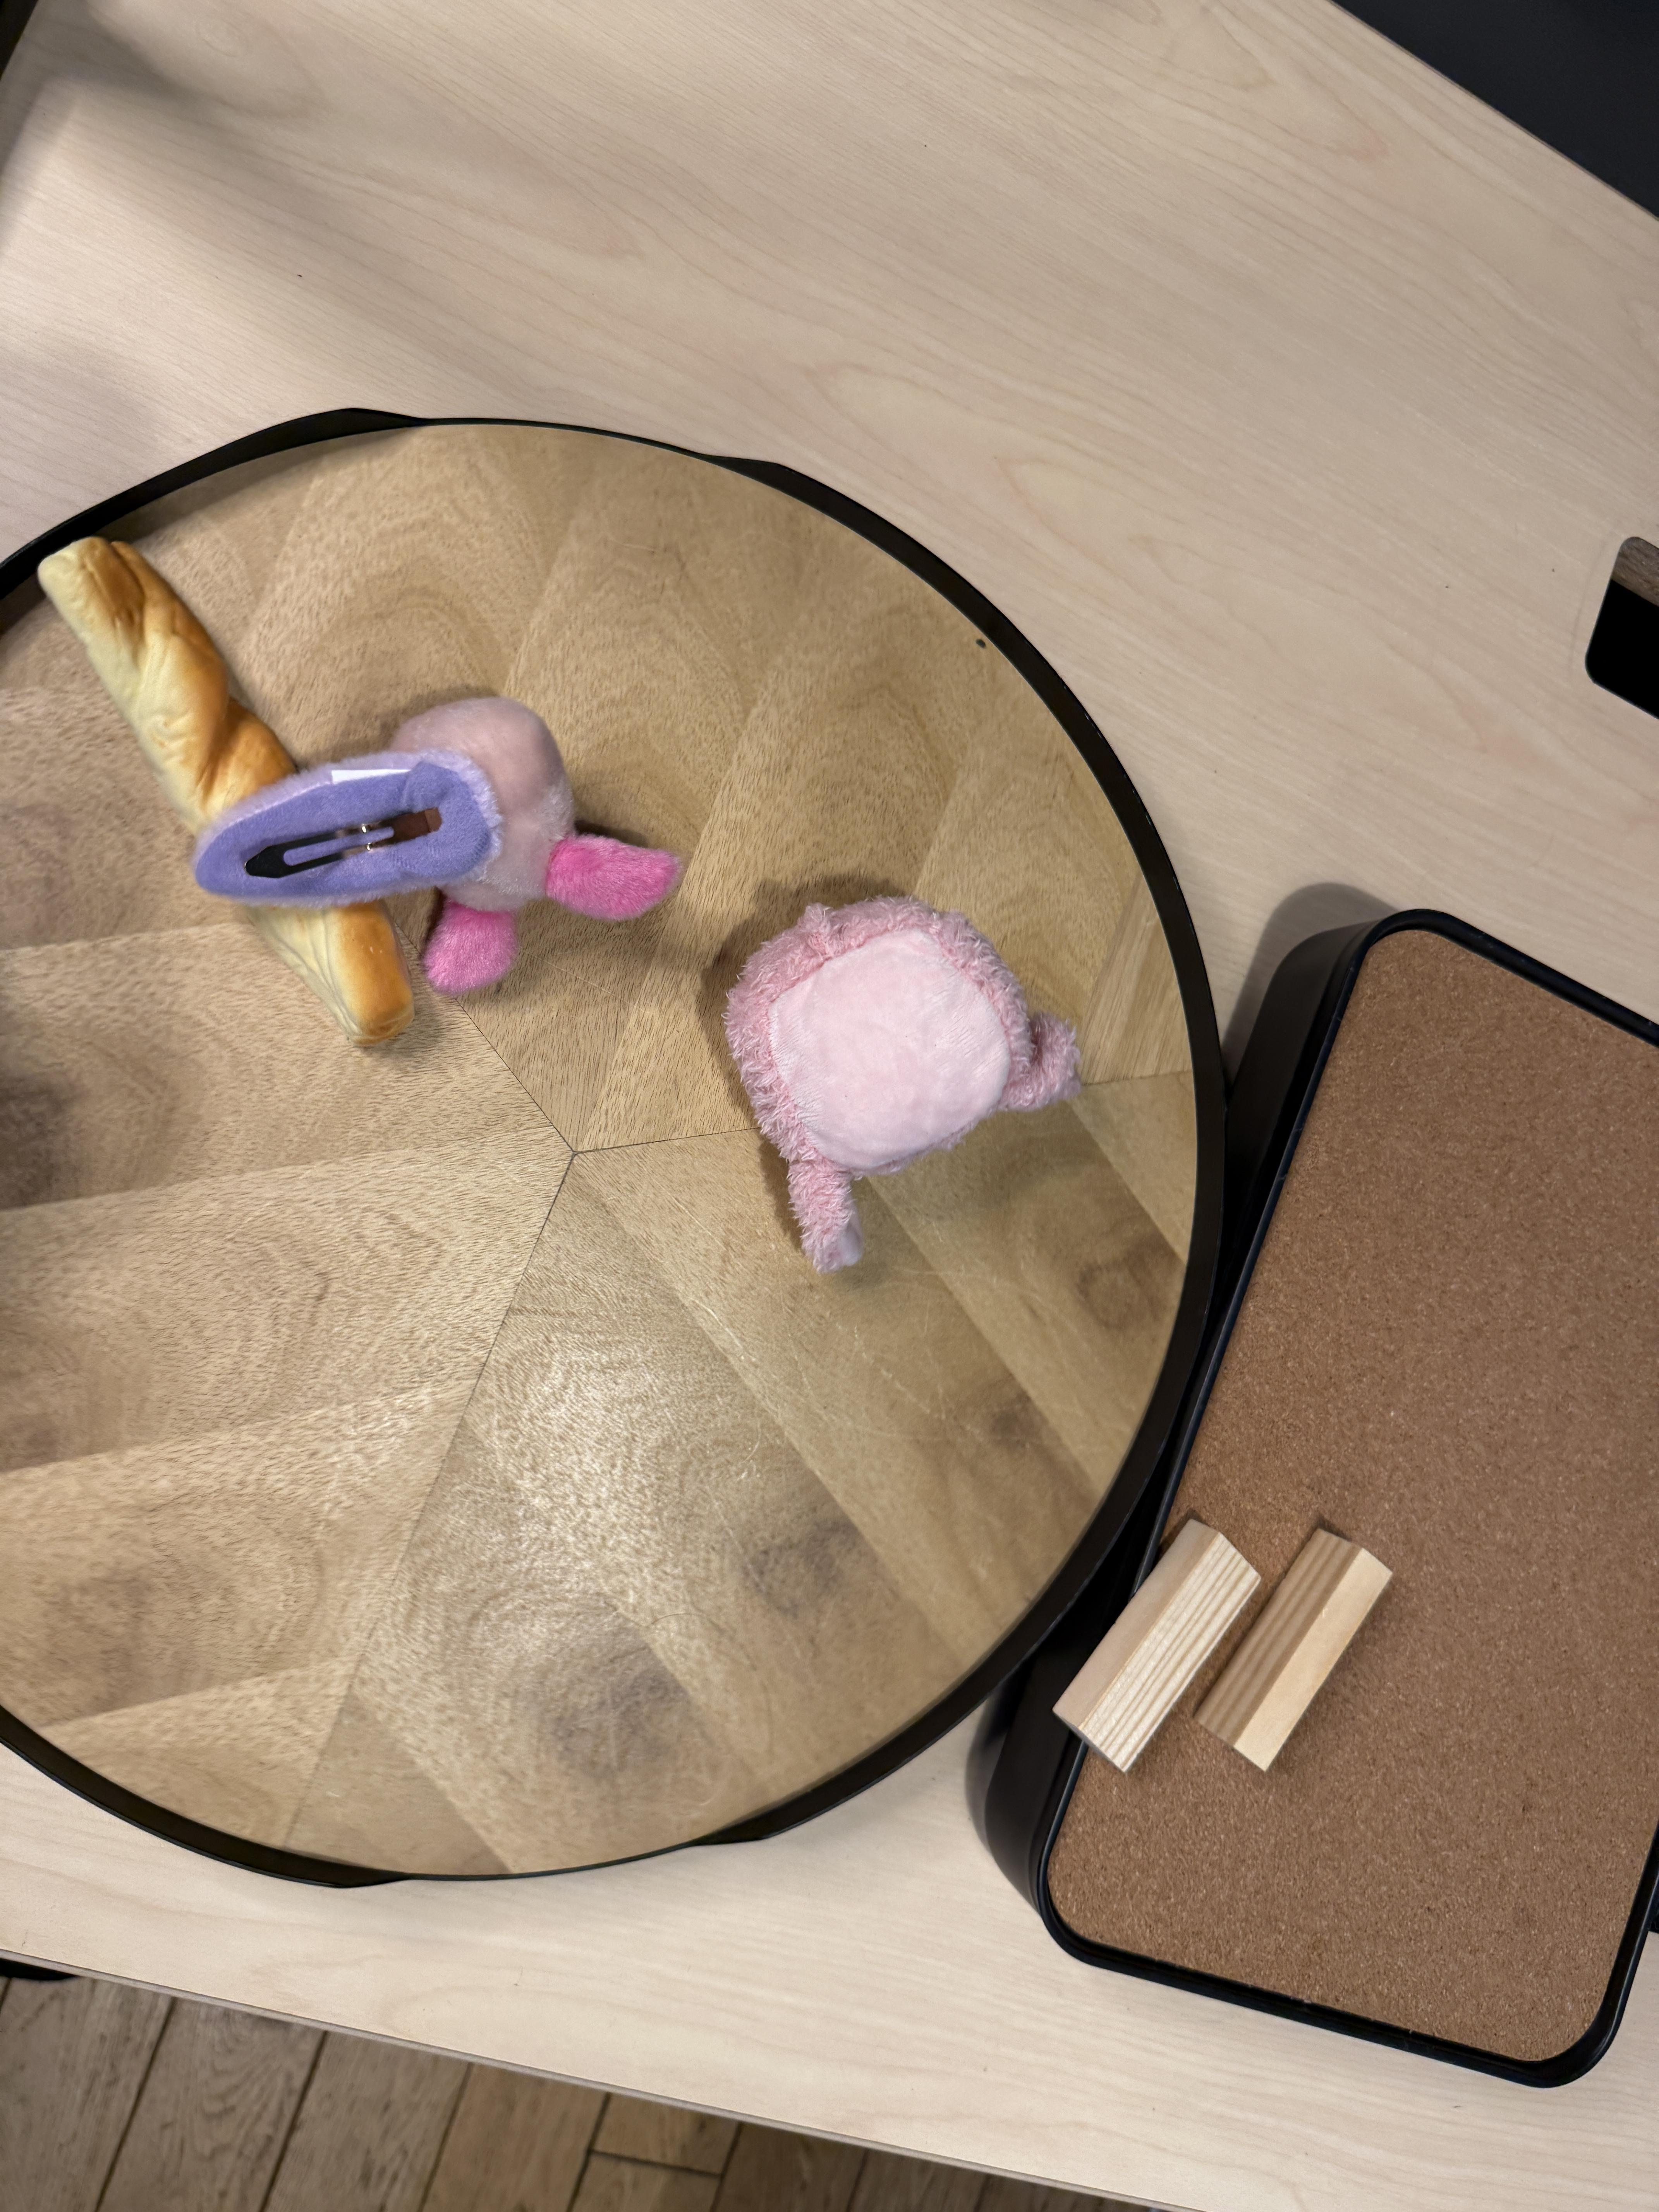block: (1049, 1514, 1260, 1773), (1204, 1529, 1413, 1777)
bread: (31, 538, 418, 1043)
doll: (190, 690, 676, 1008), (725, 902, 1089, 1266)
